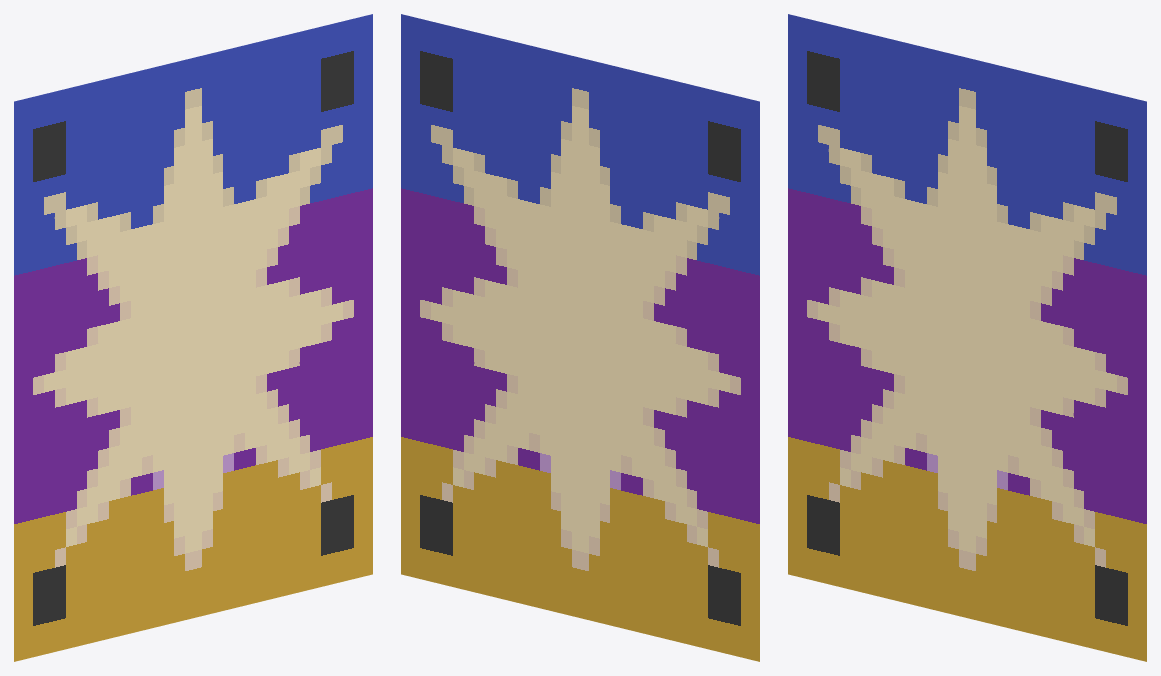
3 renders of one model, left to right at view 1: azimuth 30°, elevation 25°; view 2: azimuth 150°, elevation 25°; view 3: azimuth 330°, elevation 25°, orthographic.
Bounding box in the file's own units: 1.11 × 1.65 × 0.
Materials: 1 (1 with a texture image).
